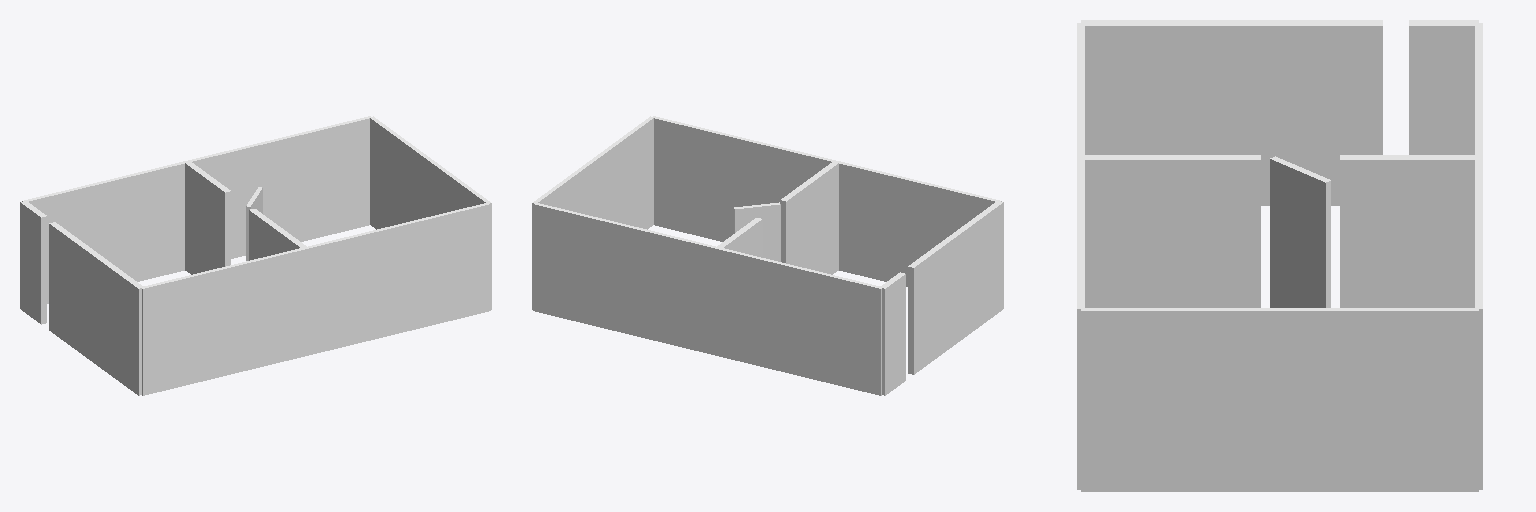
The robot description file, URDF, robot "realistic_room":
<?xml version='1.0' encoding='utf-8'?>
<robot name="realistic_room">
  <link name="base_link" />
  <link name="roof">
    <inertial>
      <origin xyz="5.75 0.0 2" rpy="0 0 0" />
      <mass value="999999999999999999999999999.0" />
      <inertia ixx="0.01" ixy="0" ixz="0" iyy="0.01" iyz="0" izz="0.01" />
    </inertial>
    <collision>
      <origin xyz="5.75 0.0 2" rpy="0 0 0" />
      <geometry>
        <box size="8.5 5.0 0.1" />
      </geometry>
    </collision>
  </link>
  <joint name="joint_1_roof" type="fixed">
    <parent link="base_link" />
    <child link="roof" />
    <origin xyz="0 0 0" rpy="0 0 0" />
  </joint>
  <link name="left_wall">
    <inertial>
      <origin xyz="5.75 2.5 0.75" rpy="0 0 0" />
      <mass value="999999999999999999999999999.0" />
      <inertia ixx="0.01" ixy="0" ixz="0" iyy="0.01" iyz="0" izz="0.01" />
    </inertial>
    <visual>
      <origin xyz="5.75 2.5 0.75" rpy="0 0 0" />
      <geometry>
        <box size="8.5 0.1 2.5" />
      </geometry>
      <material name="left_wall_color">
        <color rgba="1 1 1 1" />
      </material>
    </visual>
    <collision>
      <origin xyz="5.75 2.5 0.75" rpy="0 0 0" />
      <geometry>
        <box size="8.5 0.1 2.5" />
      </geometry>
    </collision>
  </link>
  <joint name="joint_2_left_wall" type="fixed">
    <parent link="base_link" />
    <child link="left_wall" />
    <origin xyz="0 0 0" rpy="0 0 0" />
  </joint>
  <link name="right_wall">
    <inertial>
      <origin xyz="5.75 -2.5 0.75" rpy="0 0 0" />
      <mass value="999999999999999999999999999.0" />
      <inertia ixx="0.01" ixy="0" ixz="0" iyy="0.01" iyz="0" izz="0.01" />
    </inertial>
    <visual>
      <origin xyz="5.75 -2.5 0.75" rpy="0 0 0" />
      <geometry>
        <box size="8.5 0.1 2.5" />
      </geometry>
      <material name="right_wall_color">
        <color rgba="1 1 1 1" />
      </material>
    </visual>
    <collision>
      <origin xyz="5.75 -2.5 0.75" rpy="0 0 0" />
      <geometry>
        <box size="8.5 0.1 2.5" />
      </geometry>
    </collision>
  </link>
  <joint name="joint_3_right_wall" type="fixed">
    <parent link="base_link" />
    <child link="right_wall" />
    <origin xyz="0 0 0" rpy="0 0 0" />
  </joint>
  <link name="front_wall">
    <inertial>
      <origin xyz="10.0 0.0 0.75" rpy="0 0 0" />
      <mass value="999999999999999999999999999.0" />
      <inertia ixx="0.01" ixy="0" ixz="0" iyy="0.01" iyz="0" izz="0.01" />
    </inertial>
    <visual>
      <origin xyz="10.0 0.0 0.75" rpy="0 0 0" />
      <geometry>
        <box size="0.1 5 2.5" />
      </geometry>
      <material name="front_wall_color">
        <color rgba="1 1 1 1" />
      </material>
    </visual>
    <collision>
      <origin xyz="10.0 0.0 0.75" rpy="0 0 0" />
      <geometry>
        <box size="0.1 5 2.5" />
      </geometry>
    </collision>
  </link>
  <joint name="joint_4_front_wall" type="fixed">
    <parent link="base_link" />
    <child link="front_wall" />
    <origin xyz="0 0 0" rpy="0 0 0" />
  </joint>
  <link name="wall1_left">
    <inertial>
      <origin xyz="1.5 2.0601 0.75" rpy="0 0 0" />
      <mass value="999999999999999999999999999.0" />
      <inertia ixx="0.01" ixy="0" ixz="0" iyy="0.01" iyz="0" izz="0.01" />
    </inertial>
    <visual>
      <origin xyz="1.5 2.0601 0.75" rpy="0 0 0" />
      <geometry>
        <box size="0.15 0.8797 2.5" />
      </geometry>
      <material name="wall1_left_color">
        <color rgba="1 1 1 1" />
      </material>
    </visual>
    <collision>
      <origin xyz="1.5 2.0601 0.75" rpy="0 0 0" />
      <geometry>
        <box size="0.15 0.8797 2.5" />
      </geometry>
    </collision>
  </link>
  <joint name="joint_5_wall1_left" type="fixed">
    <parent link="base_link" />
    <child link="wall1_left" />
    <origin xyz="0 0 0" rpy="0 0 0" />
  </joint>
  <link name="wall1_right">
    <inertial>
      <origin xyz="1.5 -0.6049 0.75" rpy="0 0 0" />
      <mass value="999999999999999999999999999.0" />
      <inertia ixx="0.01" ixy="0" ixz="0" iyy="0.01" iyz="0" izz="0.01" />
    </inertial>
    <visual>
      <origin xyz="1.5 -0.6049 0.75" rpy="0 0 0" />
      <geometry>
        <box size="0.15 3.7903 2.5" />
      </geometry>
      <material name="wall1_right_color">
        <color rgba="1 1 1 1" />
      </material>
    </visual>
    <collision>
      <origin xyz="1.5 -0.6049 0.75" rpy="0 0 0" />
      <geometry>
        <box size="0.15 3.7903 2.5" />
      </geometry>
    </collision>
  </link>
  <joint name="joint_6_wall1_right" type="fixed">
    <parent link="base_link" />
    <child link="wall1_right" />
    <origin xyz="0 0 0" rpy="0 0 0" />
  </joint>
  <link name="wall2_left">
    <inertial>
      <origin xyz="5.5 1.6295 0.75" rpy="0 0 0" />
      <mass value="999999999999999999999999999.0" />
      <inertia ixx="0.01" ixy="0" ixz="0" iyy="0.01" iyz="0" izz="0.01" />
    </inertial>
    <visual>
      <origin xyz="5.5 1.6295 0.75" rpy="0 0 0" />
      <geometry>
        <box size="0.15 1.7410 2.5" />
      </geometry>
      <material name="wall2_left_color">
        <color rgba="1 1 1 1" />
      </material>
    </visual>
    <collision>
      <origin xyz="5.5 1.6295 0.75" rpy="0 0 0" />
      <geometry>
        <box size="0.15 1.7410 2.5" />
      </geometry>
    </collision>
  </link>
  <joint name="joint_7_wall2_left" type="fixed">
    <parent link="base_link" />
    <child link="wall2_left" />
    <origin xyz="0 0 0" rpy="0 0 0" />
  </joint>
  <link name="wall2_right">
    <inertial>
      <origin xyz="5.5 -1.3705 0.75" rpy="0 0 0" />
      <mass value="999999999999999999999999999.0" />
      <inertia ixx="0.01" ixy="0" ixz="0" iyy="0.01" iyz="0" izz="0.01" />
    </inertial>
    <visual>
      <origin xyz="5.5 -1.3705 0.75" rpy="0 0 0" />
      <geometry>
        <box size="0.15 2.2590 2.5" />
      </geometry>
      <material name="wall2_right_color">
        <color rgba="1 1 1 1" />
      </material>
    </visual>
    <collision>
      <origin xyz="5.5 -1.3705 0.75" rpy="0 0 0" />
      <geometry>
        <box size="0.15 2.2590 2.5" />
      </geometry>
    </collision>
  </link>
  <joint name="joint_8_wall2_right" type="fixed">
    <parent link="base_link" />
    <child link="wall2_right" />
    <origin xyz="0 0 0" rpy="0 0 0" />
  </joint>
  <link name="door">
    <inertial>
      <origin xyz="5.85 0.2590 0.75" rpy="0 0 0.78" />
      <mass value="999999999999999999999999999.0" />
      <inertia ixx="0.01" ixy="0" ixz="0" iyy="0.01" iyz="0" izz="0.01" />
    </inertial>
    <visual>
      <origin xyz="5.85 0.2590 0.75" rpy="0 0 0.78" />
      <geometry>
        <box size="1.0 0.1 2.5" />
      </geometry>
      <material name="door_color">
        <color rgba="1 1 1 1" />
      </material>
    </visual>
    <collision>
      <origin xyz="5.85 0.2590 0.75" rpy="0 0 0.78" />
      <geometry>
        <box size="1.0 0.1 2.5" />
      </geometry>
    </collision>
  </link>
  <joint name="joint_9_door" type="fixed">
    <parent link="base_link" />
    <child link="door" />
    <origin xyz="0 0 0" rpy="0 0 0" />
  </joint>
</robot>

--- What the picture shows (computed from the rendered views, not written in the file) ---
The picture shows the robot from 3 angles, left to right: view 1: azimuth 30°, elevation 25°; view 2: azimuth 150°, elevation 25°; view 3: azimuth 270°, elevation 25°; orthographic projection.
Robot: realistic_room — 10 links, 9 joints (9 fixed); root link base_link; default pose: all joints at 0.
Visible links, largest first — view 1: right_wall, left_wall, wall1_right, front_wall, wall2_left, wall1_left, wall2_right; view 2: left_wall, right_wall, wall1_right, front_wall, wall2_right, wall1_left, door, wall2_left; view 3: front_wall, wall1_right, wall2_right, wall2_left, wall1_left, door, right_wall, left_wall.
Boxes of the visible links, x1,y1,x2,y2 form: right_wall: [141, 203, 490, 395]; left_wall: [22, 116, 370, 303]; wall1_right: [49, 222, 143, 395]; front_wall: [370, 116, 491, 309]; wall2_left: [185, 162, 230, 274]; wall1_left: [20, 201, 46, 324]; wall2_right: [249, 209, 307, 260]; left_wall: [533, 203, 881, 395]; right_wall: [653, 116, 1001, 286]; wall1_right: [908, 201, 1003, 374]; front_wall: [532, 116, 653, 309]; wall2_right: [780, 161, 839, 274]; wall1_left: [880, 272, 905, 395]; door: [734, 202, 780, 261]; wall2_left: [717, 218, 762, 257]; front_wall: [1081, 308, 1478, 491]; wall1_right: [1081, 20, 1382, 205]; wall2_right: [1085, 155, 1260, 307]; wall2_left: [1340, 155, 1478, 307]; wall1_left: [1409, 20, 1478, 154]; door: [1270, 156, 1330, 307]; right_wall: [1077, 23, 1084, 489]; left_wall: [1475, 23, 1482, 489].
Size in the robot's own frame: 8.62 by 5.1 by 2.5 metres.
Geometry: primitives only (box / cylinder / sphere), no mesh files.
